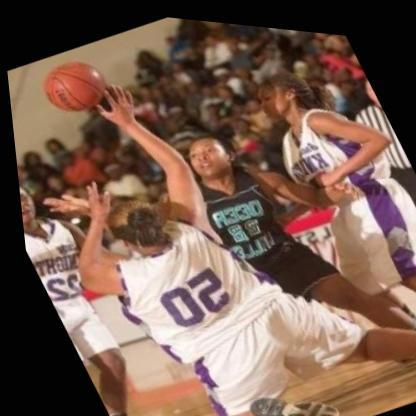basketball: (23, 39, 122, 131)
